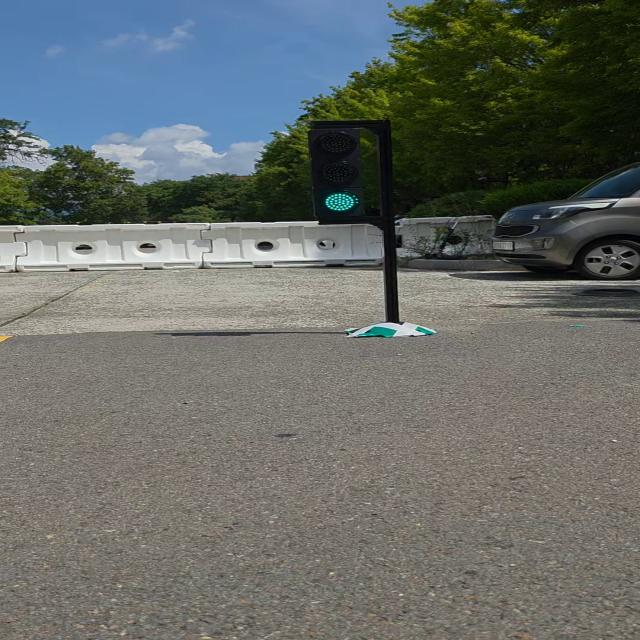green: (304, 131, 370, 225)
